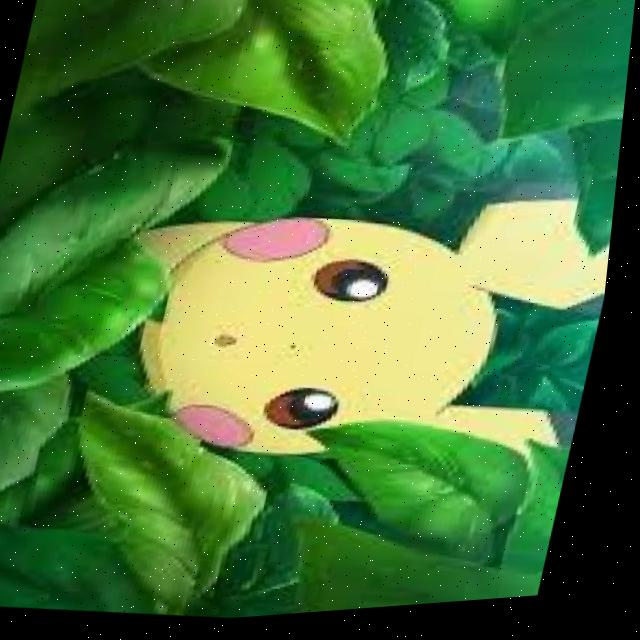pichu: (96, 149, 625, 524)
